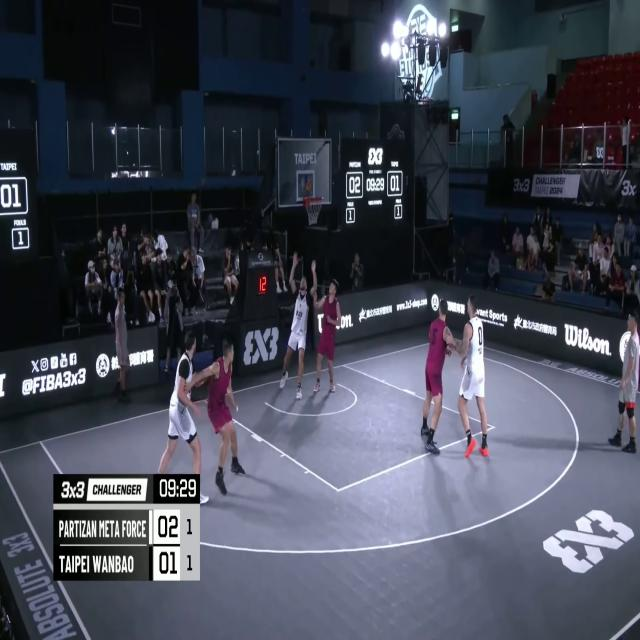ball: (299, 168, 316, 199)
hoop: (301, 193, 324, 230)
player: (156, 332, 212, 499), (446, 297, 488, 460), (197, 338, 240, 494), (280, 252, 315, 400), (423, 297, 455, 455), (314, 269, 339, 396)
